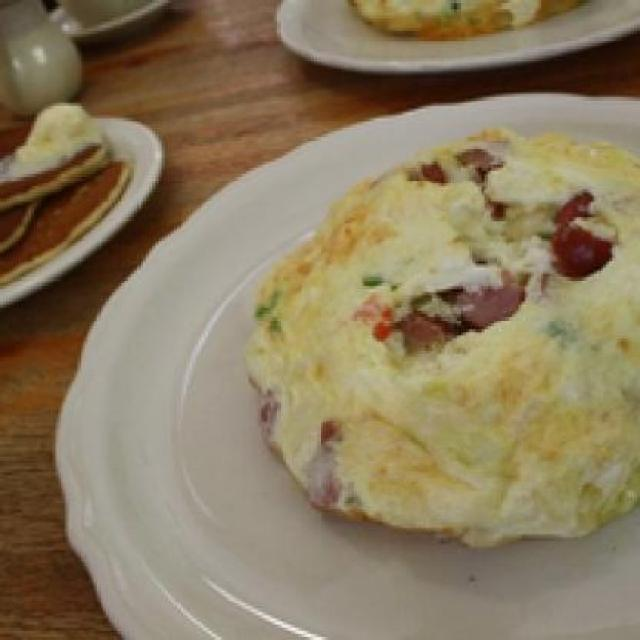omelette: (241, 118, 637, 547)
